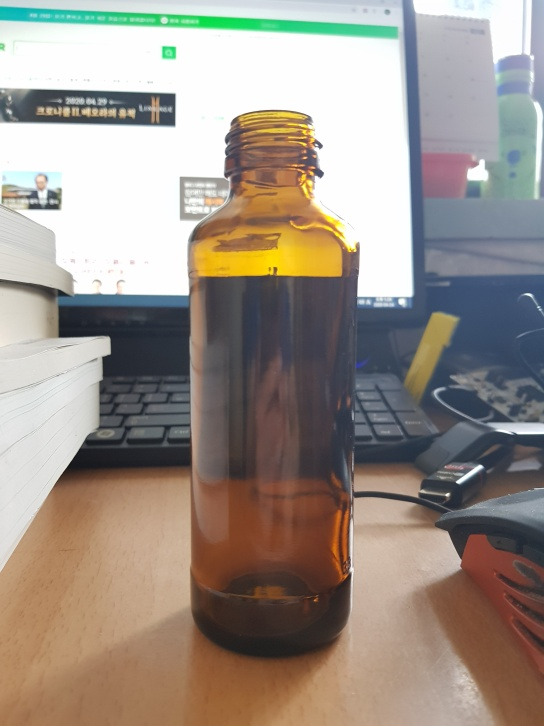Glass: (188, 111, 353, 659)
